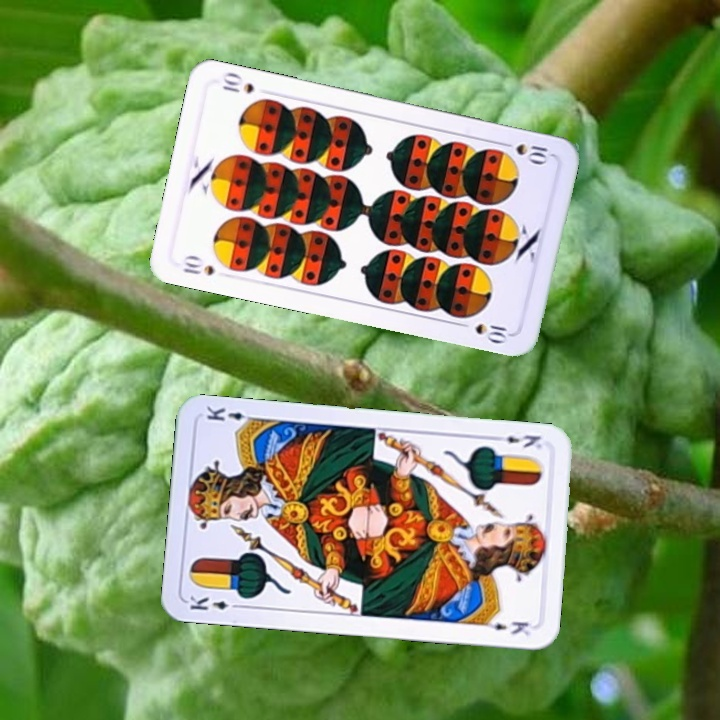EK: (185, 592, 244, 613), (490, 430, 545, 451)
S10: (496, 137, 554, 166), (178, 251, 217, 279)
